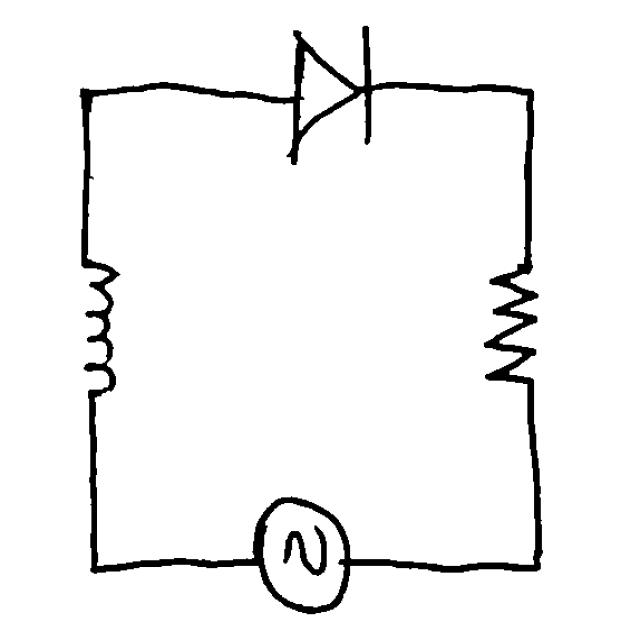ac: (239, 490, 363, 623)
diode: (261, 14, 388, 172)
inductor: (54, 242, 142, 412)
resistor: (475, 248, 553, 408)
